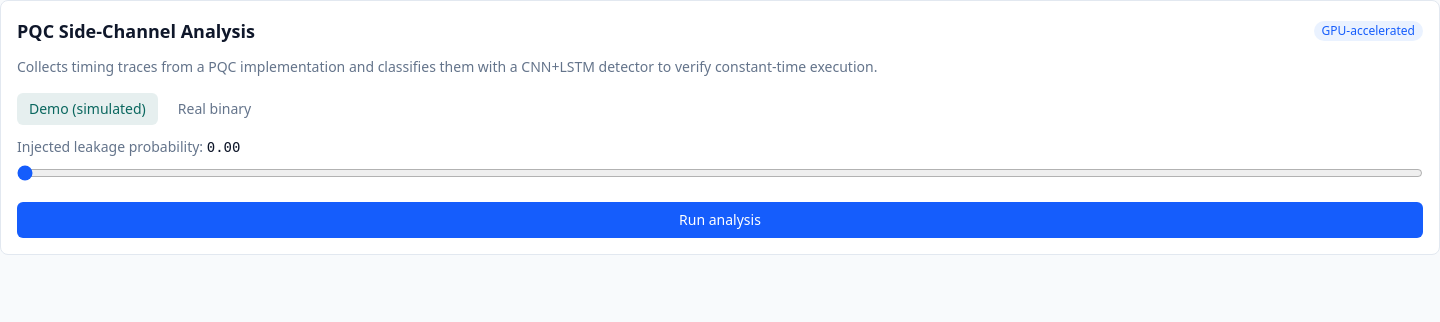
SideChannelPanel › shows a training hint on 409 untrained-detector errors
Click the button "Run analysis" at {"x": 720, "y": 220}, box x1=17 y1=202 x2=1423 y2=238
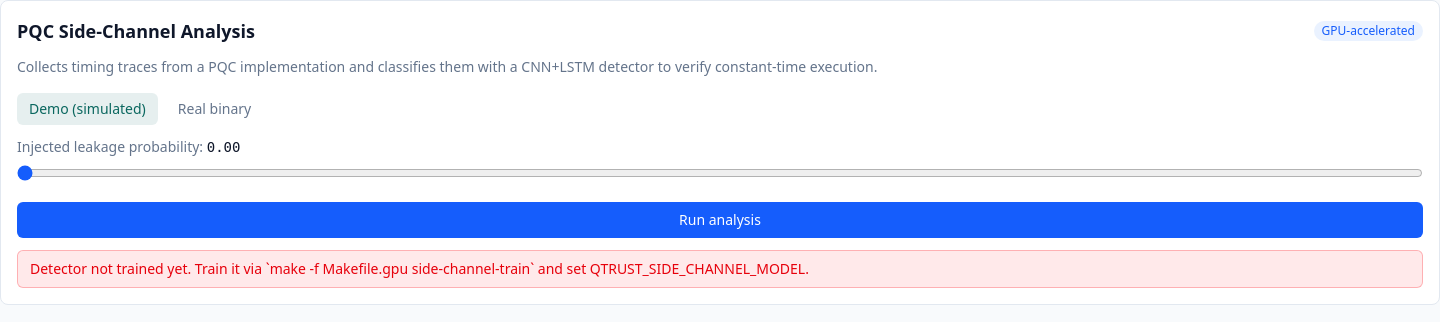
Now the message shows "Detector not trained yet", box x1=30 y1=259 x2=809 y2=278
